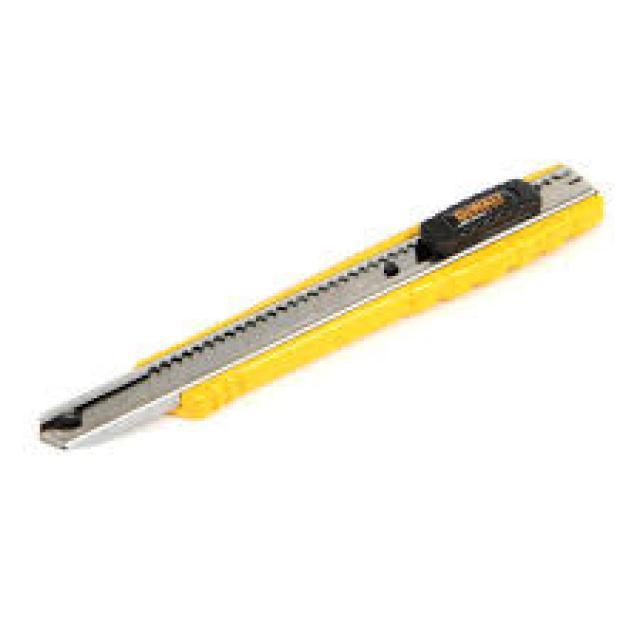cutter: (28, 148, 611, 474)
